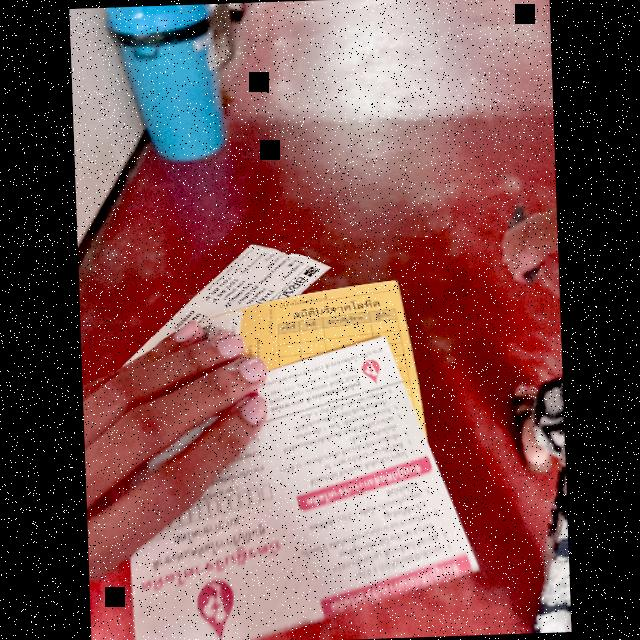scrap_paper: (121, 332, 477, 640), (125, 222, 328, 372), (235, 274, 430, 417)
